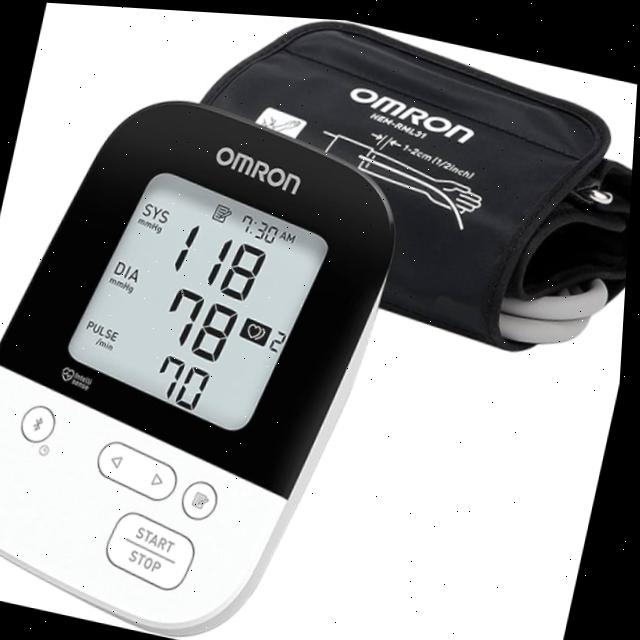dia: (151, 276, 251, 370)
pul: (144, 344, 223, 415)
ssd: (71, 164, 330, 432)
sys: (168, 209, 277, 305)
